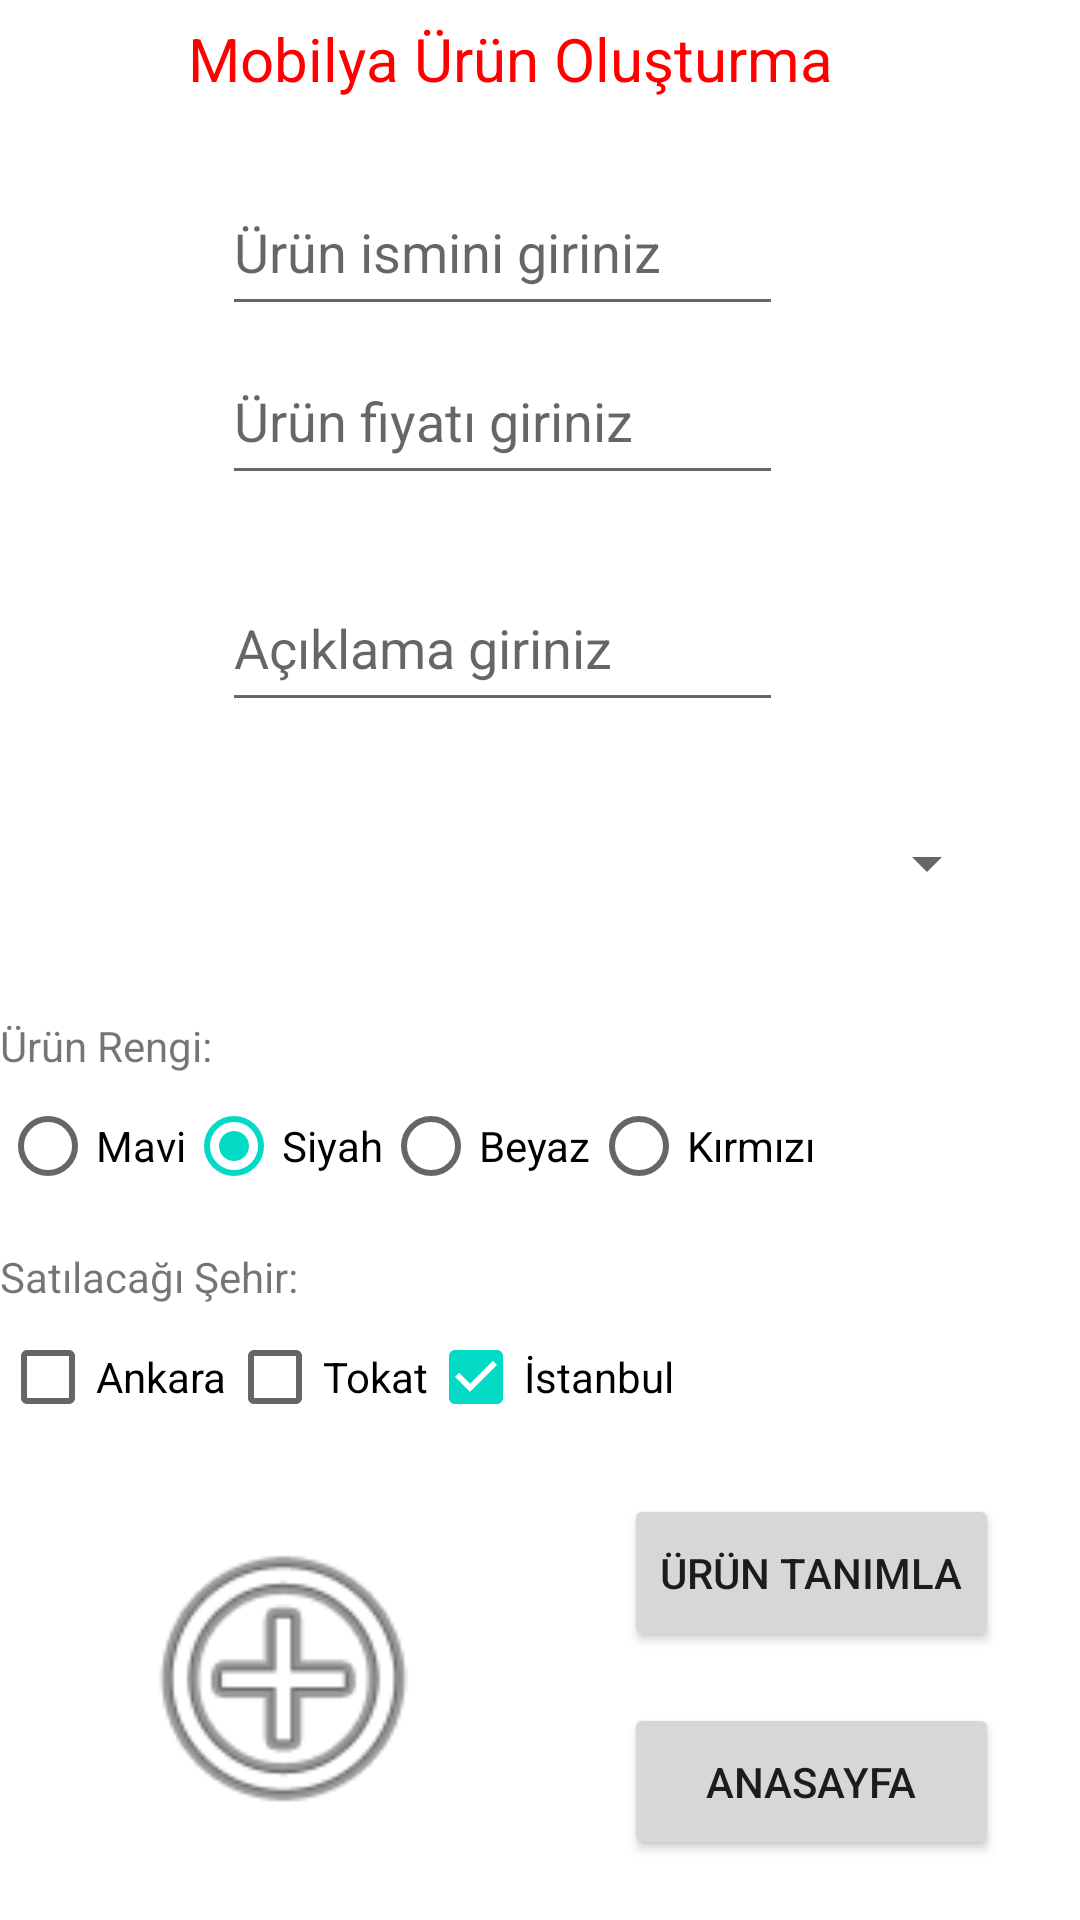

Named icons in this screenshot (1080×1920) and their centers, [x,y]:
add: [283,1679]
